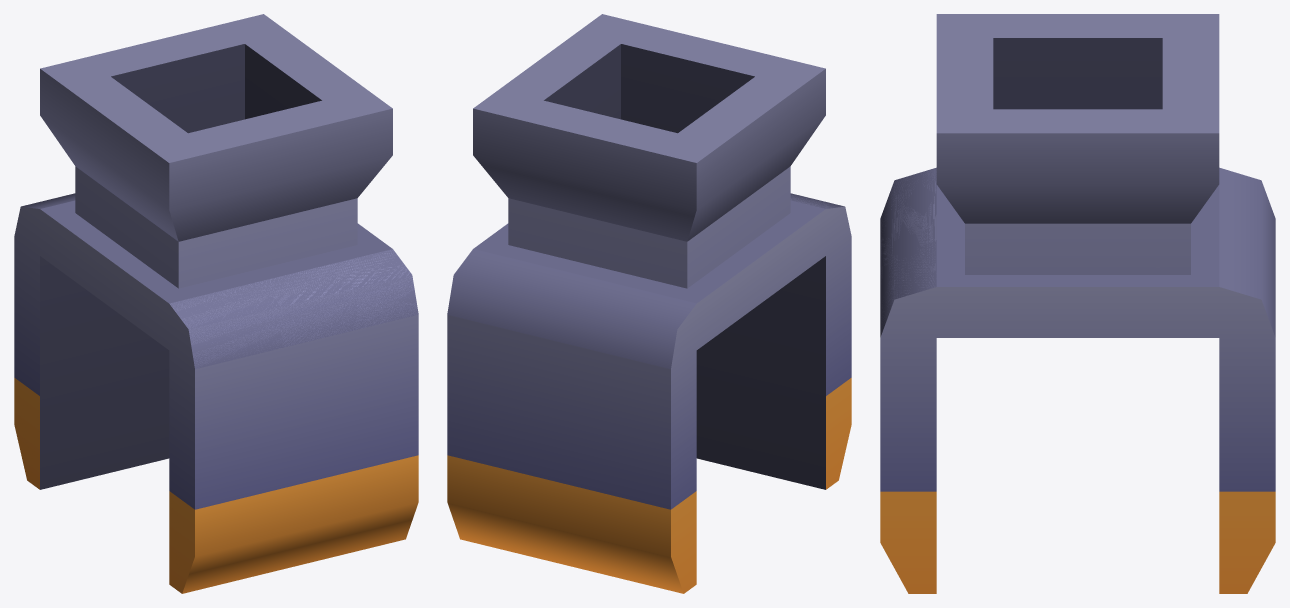
The model's file is cover-stripe-hopper.glb.
3 views of the same model, side by side, from view 1: azimuth 30°, elevation 25°; view 2: azimuth 150°, elevation 25°; view 3: azimuth 270°, elevation 25° (orthographic). The views are drawn at different scales.
Parts seen in each view (by area): view 1: cover-stripe-hopper; view 2: cover-stripe-hopper; view 3: cover-stripe-hopper.
Part boxes in pixels (x1=…): cover-stripe-hopper: x1=14, y1=14, x2=418, y2=593; cover-stripe-hopper: x1=447, y1=14, x2=851, y2=593; cover-stripe-hopper: x1=880, y1=14, x2=1275, y2=593.
Bounding box in the file's own units: 1 × 1.8 × 1.4.
